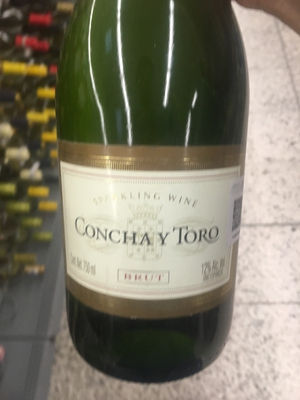brut: (53, 8, 253, 368)
